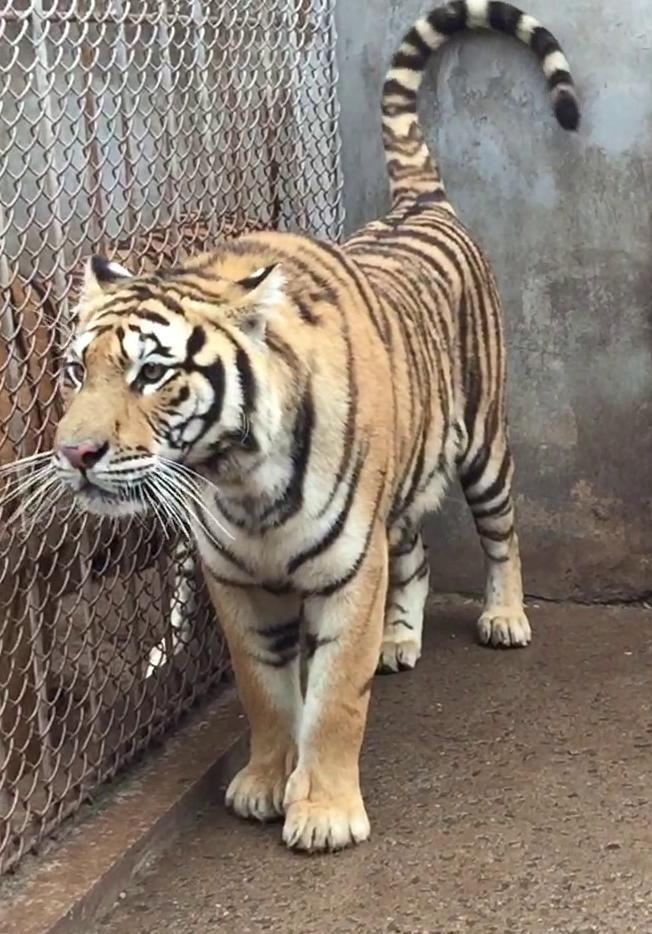tiger: (47, 0, 578, 849)
